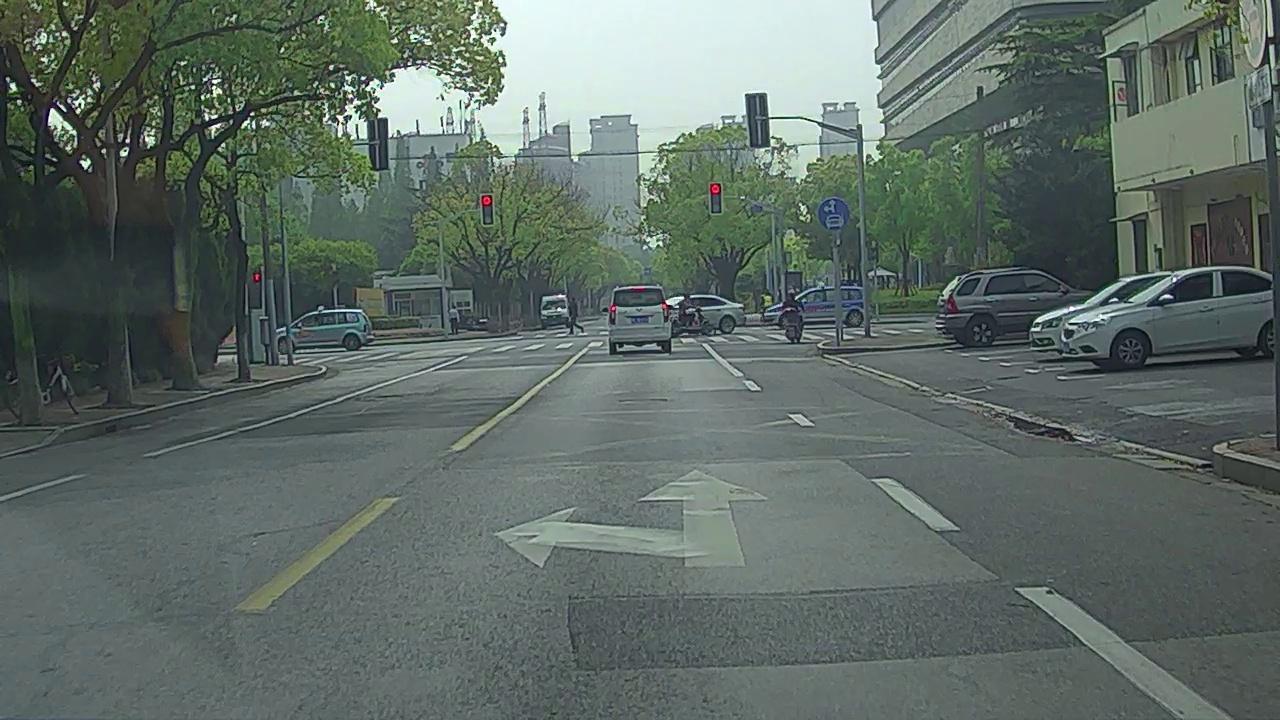traffic_light: (709, 183, 723, 214), (481, 195, 494, 226)
